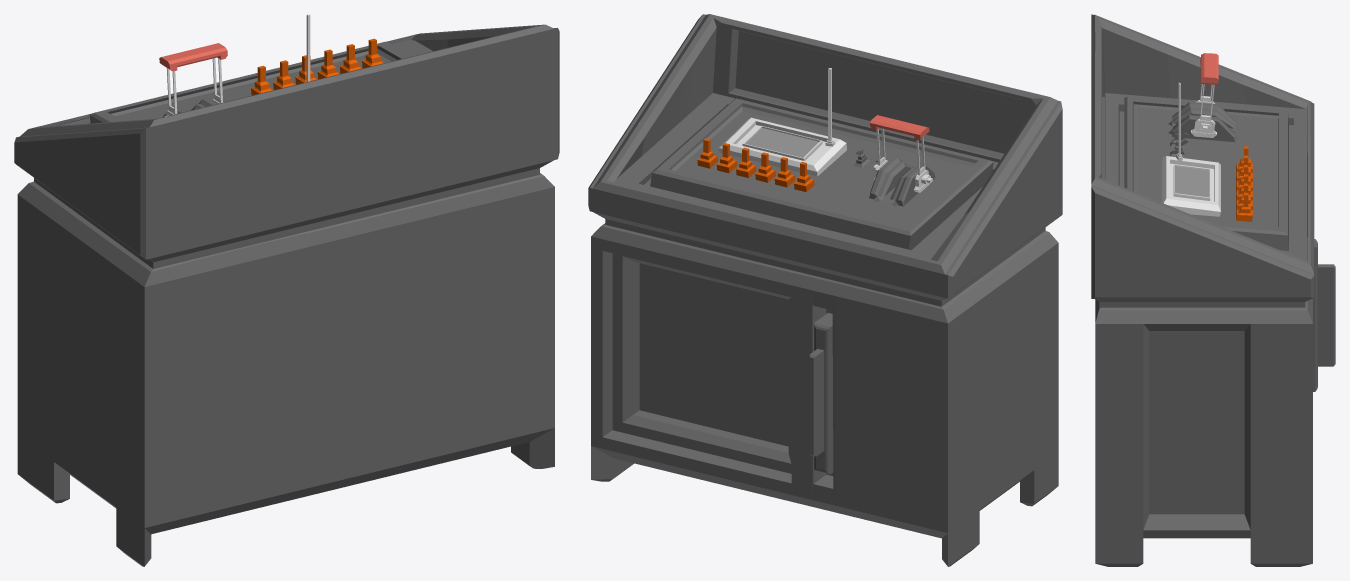
Rendered from 0003_factory_controller.glb.
The picture shows the model from 3 angles, left to right: view 1: azimuth 30°, elevation 25°; view 2: azimuth 150°, elevation 25°; view 3: azimuth 270°, elevation 25°; orthographic projection. The views are drawn at different scales.
Visible parts, largest first — view 1: 立方体.008; view 2: 立方体.008; view 3: 立方体.008.
Part boxes in pixels (box(x1,y1,x2,y2)): 立方体.008: box(14, 14, 559, 566); 立方体.008: box(588, 14, 1062, 566); 立方体.008: box(1091, 14, 1335, 566).
Size of the model in its own units: 13.87 by 14.92 by 8.17.
